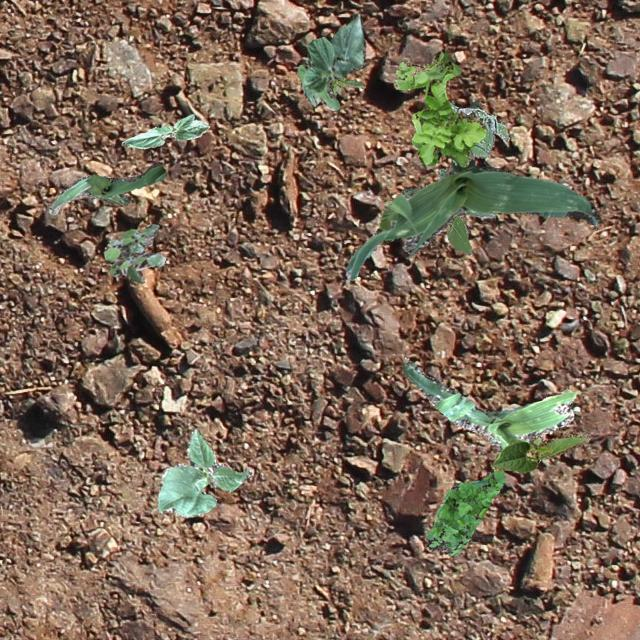crop: (344, 98, 598, 282), (404, 361, 576, 451), (156, 428, 250, 516), (400, 168, 496, 254), (296, 12, 364, 110), (48, 162, 165, 214), (490, 431, 590, 472), (120, 112, 208, 148)
weed: (392, 47, 484, 166), (426, 468, 504, 554), (448, 100, 508, 160), (104, 222, 164, 282), (330, 78, 364, 94)
